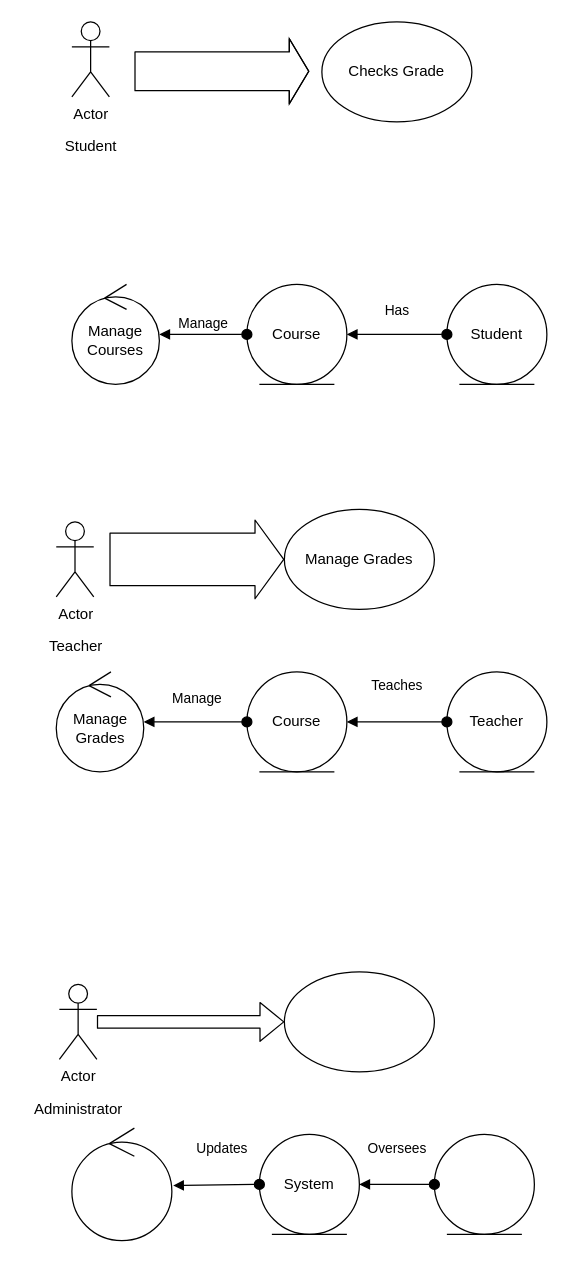
This 569x1263 diagram has some shape labels left out. Each missing label, with the centre of its shape:
Admin: the point at 483,1183
Maintains System Consistency: the point at 121,1184
Monitors System: the point at 358,1021
